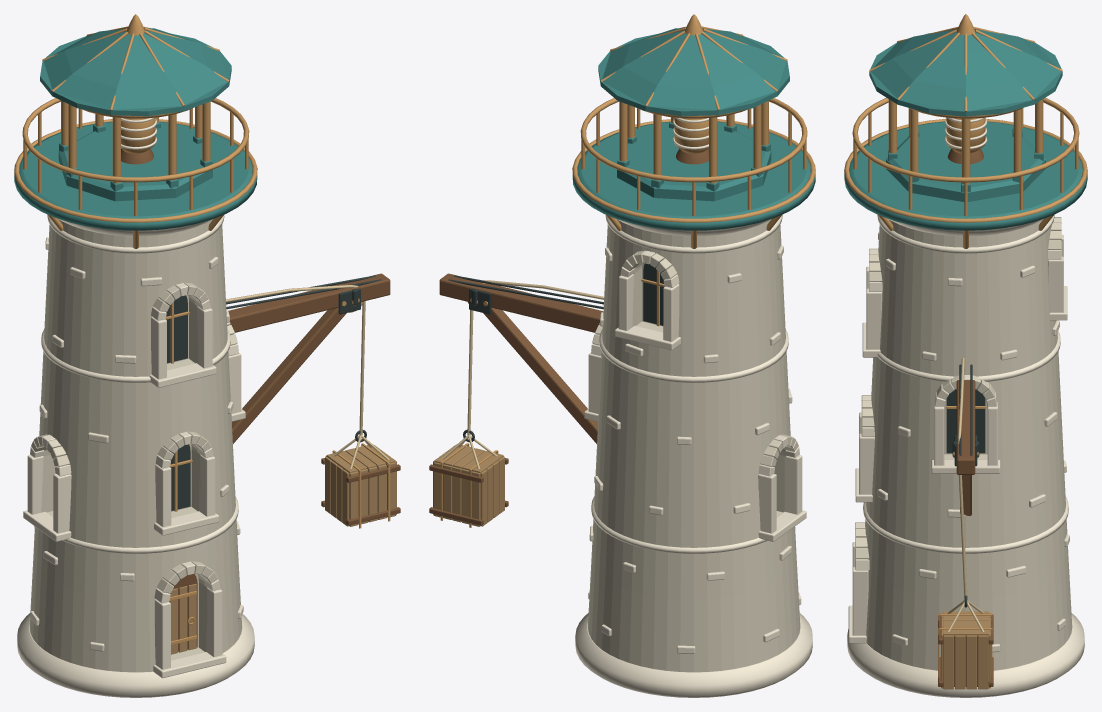
The model's file is world04-harbor-landmarks-v1.glb.
3 renders of one model, left to right at view 1: azimuth 30°, elevation 25°; view 2: azimuth 150°, elevation 25°; view 3: azimuth 270°, elevation 25°, orthographic.
Parts seen in each view (by area): view 1: harbor-lighthouse__Warm limestone, harbor-lighthouse__Patinated teal crown, harbor-lighthouse__Pale dressed limestone, harbor-lighthouse__Aged copper and brass, harbor-cargo-crane__Oiled harbor oak, harbor-cargo-crane__Golden cargo planks, harbor-lighthouse__Dark iron and window recess, harbor-lighthouse__Golden cargo planks, harbor-cargo-crane__Natural flax rope, harbor-cargo-crane__Dark iron and window recess, harbor-lighthouse__Oiled harbor oak; view 2: harbor-lighthouse__Warm limestone, harbor-lighthouse__Patinated teal crown, harbor-lighthouse__Pale dressed limestone, harbor-lighthouse__Aged copper and brass, harbor-cargo-crane__Oiled harbor oak, harbor-cargo-crane__Golden cargo planks, harbor-cargo-crane__Dark iron and window recess, harbor-cargo-crane__Natural flax rope, harbor-lighthouse__Dark iron and window recess; view 3: harbor-lighthouse__Warm limestone, harbor-lighthouse__Patinated teal crown, harbor-lighthouse__Pale dressed limestone, harbor-lighthouse__Aged copper and brass, harbor-cargo-crane__Golden cargo planks, harbor-cargo-crane__Oiled harbor oak, harbor-lighthouse__Dark iron and window recess, harbor-cargo-crane__Natural flax rope, harbor-cargo-crane__Dark iron and window recess, harbor-cargo-crane__Aged copper and brass.
Part boxes in pixels (x1,y1,x2,y2): harbor-lighthouse__Warm limestone: [29, 219, 242, 672]; harbor-lighthouse__Patinated teal crown: [14, 28, 257, 230]; harbor-lighthouse__Pale dressed limestone: [17, 117, 254, 697]; harbor-lighthouse__Aged copper and brass: [14, 14, 257, 645]; harbor-cargo-crane__Oiled harbor oak: [228, 273, 400, 525]; harbor-cargo-crane__Golden cargo planks: [325, 444, 396, 526]; harbor-lighthouse__Dark iron and window recess: [166, 295, 190, 510]; harbor-lighthouse__Golden cargo planks: [169, 584, 196, 654]; harbor-cargo-crane__Natural flax rope: [226, 285, 389, 468]; harbor-cargo-crane__Dark iron and window recess: [226, 275, 381, 442]; harbor-lighthouse__Oiled harbor oak: [121, 148, 197, 651]; harbor-lighthouse__Warm limestone: [587, 219, 800, 672]; harbor-lighthouse__Patinated teal crown: [572, 28, 815, 230]; harbor-lighthouse__Pale dressed limestone: [575, 117, 812, 697]; harbor-lighthouse__Aged copper and brass: [572, 14, 815, 326]; harbor-cargo-crane__Oiled harbor oak: [429, 273, 603, 525]; harbor-cargo-crane__Golden cargo planks: [433, 444, 504, 526]; harbor-cargo-crane__Dark iron and window recess: [448, 275, 603, 442]; harbor-cargo-crane__Natural flax rope: [440, 280, 604, 468]; harbor-lighthouse__Dark iron and window recess: [643, 263, 664, 325]; harbor-lighthouse__Warm limestone: [855, 217, 1072, 670]; harbor-lighthouse__Patinated teal crown: [844, 29, 1087, 230]; harbor-lighthouse__Pale dressed limestone: [847, 117, 1084, 697]; harbor-lighthouse__Aged copper and brass: [844, 14, 1087, 408]; harbor-cargo-crane__Golden cargo planks: [941, 611, 990, 689]; harbor-cargo-crane__Oiled harbor oak: [938, 380, 993, 686]; harbor-lighthouse__Dark iron and window recess: [946, 389, 985, 453]; harbor-cargo-crane__Natural flax rope: [947, 358, 984, 631]; harbor-cargo-crane__Dark iron and window recess: [952, 364, 979, 607]; harbor-cargo-crane__Aged copper and brass: [938, 452, 992, 686].
Bounding box in the file's own units: 8.4 × 14.3 × 4.97.
